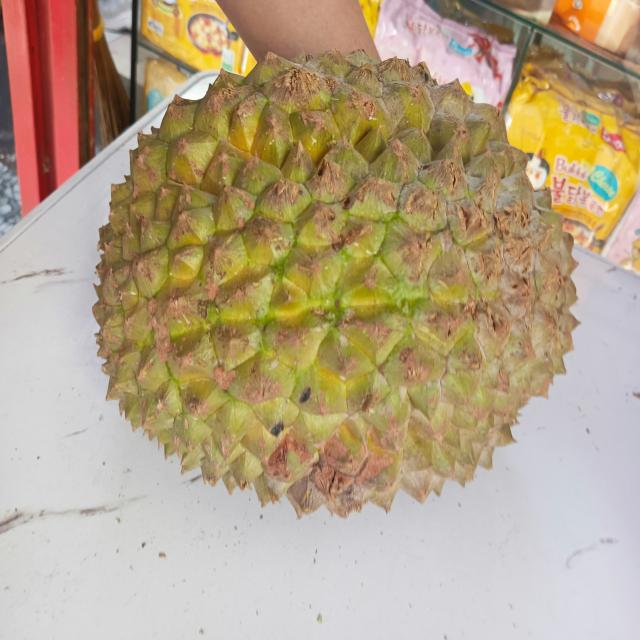mature: (100, 44, 542, 511)
